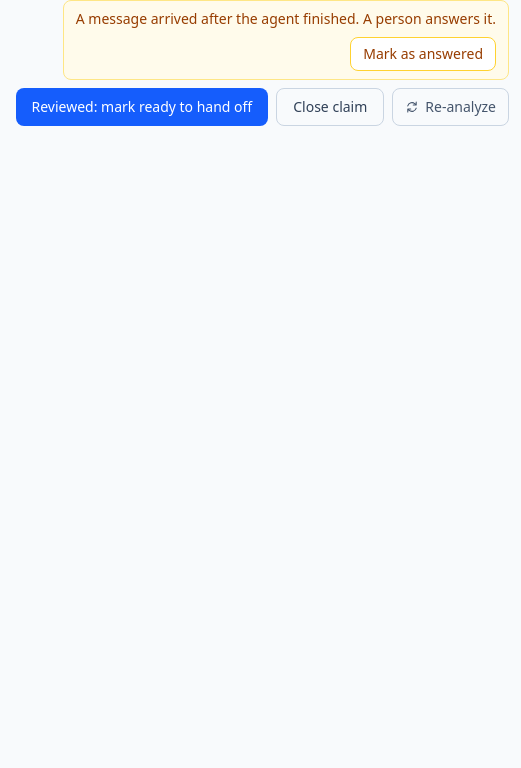
Test: «Para responder» en el detalle › en en-US, con actualizado=false, manda cuándo lo vio y avisa «The case changed while you were viewing it. Check it again.»
Click the button "Mark as answered": click(423, 54) x1=350 y1=37 x2=496 y2=71
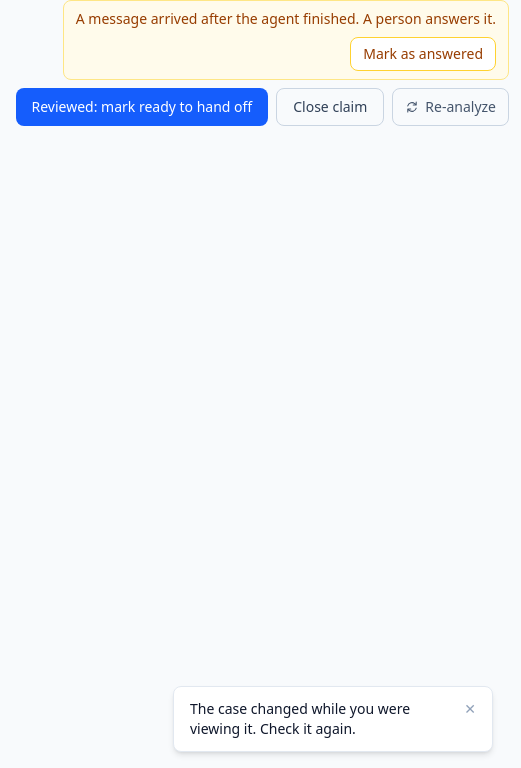
Expected: the text "The case changed while you were viewing it. Check it again." is shown, x1=190 y1=699 x2=444 y2=739
